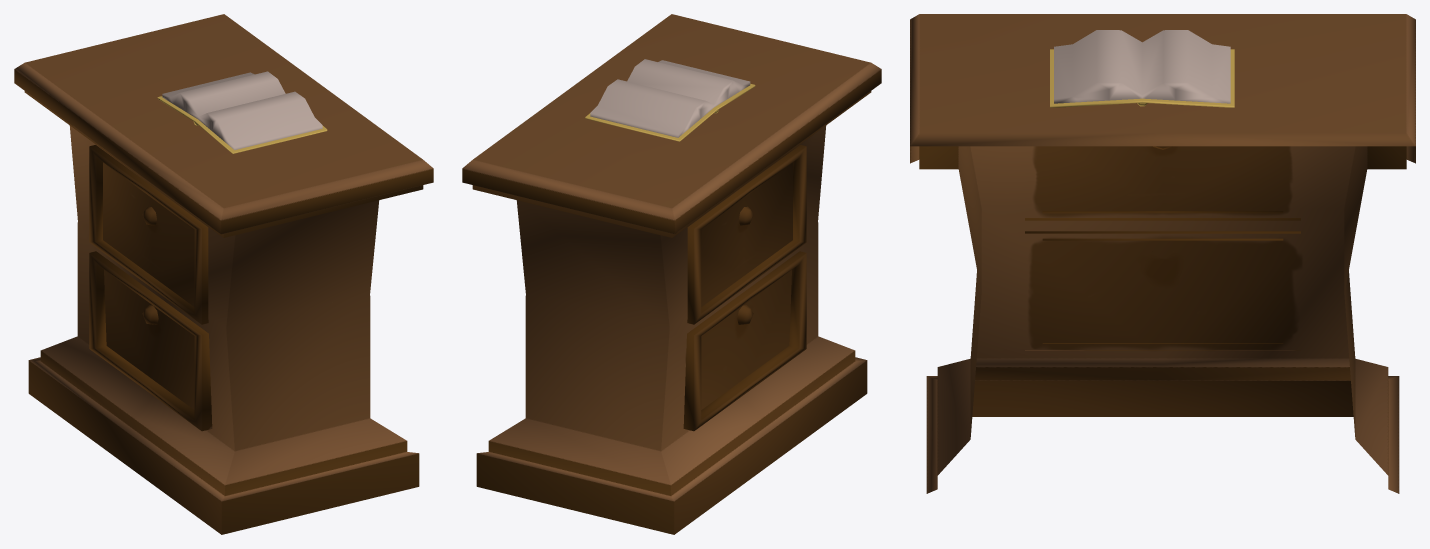
File: Velador.fbx
The picture shows the model from 3 angles, left to right: view 1: azimuth 30°, elevation 25°; view 2: azimuth 150°, elevation 25°; view 3: azimuth 270°, elevation 25°; orthographic projection. The views are drawn at different scales.
Visible parts, largest first — view 1: OBJ_Velador; view 2: OBJ_Velador; view 3: OBJ_Velador.
Part boxes in pixels (x1,y1,x2,y2): OBJ_Velador: [14, 14, 433, 534]; OBJ_Velador: [462, 14, 881, 534]; OBJ_Velador: [910, 14, 1415, 493].
Size of the model in its own units: 20.15 by 31.51 by 33.91.
